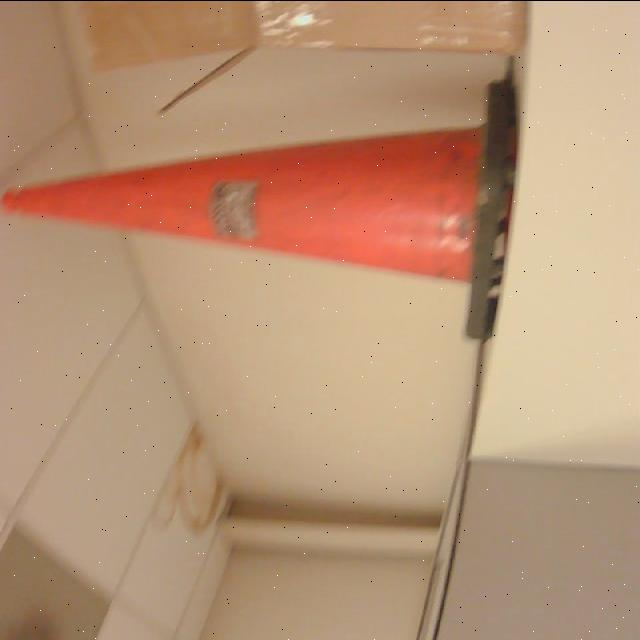traffic cone: (2, 74, 521, 343)
